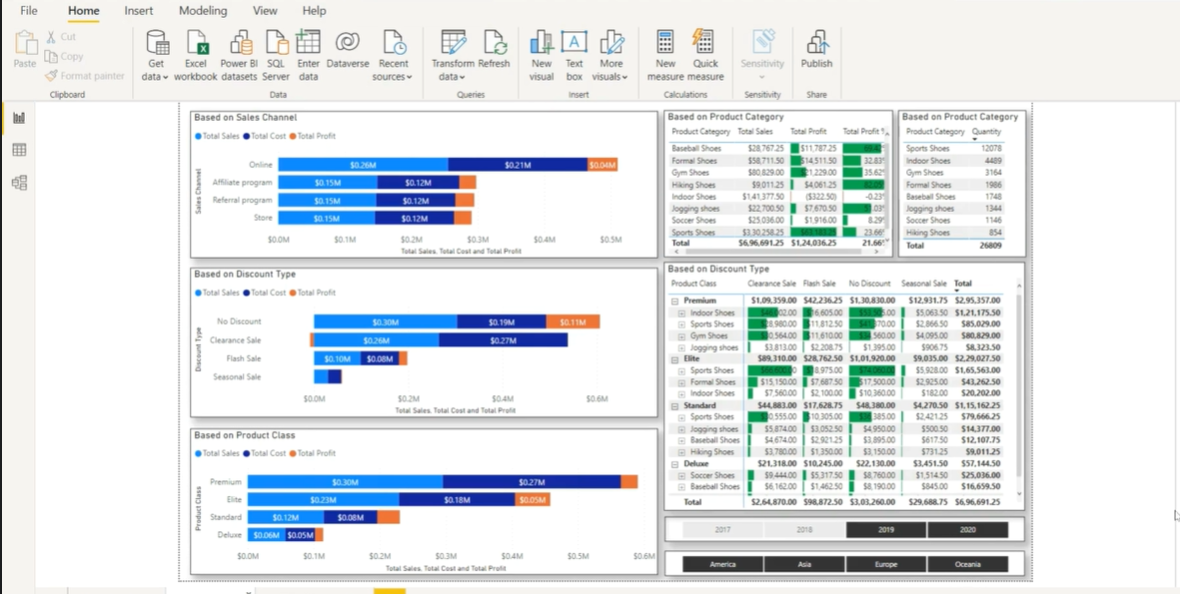

The page's visual inventory and layout, read from the dashboard file:
{"tool":"powerbi","page":{"name":"Page 4","canvas":[1280,720],"ordinal":4},"visuals":[{"type":"hundredPercentStackedBarChart","title":"Based On Sales Channel","fields":{"Category":["Sales Channel Details.Sales Channel"],"Y":["All Measures Table.Total sales","All Measures Table.Total Cost","All Measures Table.Total Profit"]},"box":[10.2,0,644.1,247.5],"z":0},{"type":"hundredPercentStackedBarChart","title":"Based On Customer Type","fields":{"Y":["All Measures Table.Total sales","All Measures Table.Total Cost","All Measures Table.Total Profit"],"Category":["Sales Data.Customer Type"]},"box":[10.2,254.2,644.1,240.7],"z":1000},{"type":"hundredPercentStackedBarChart","title":"Based On Product Class","fields":{"Category":["Sales Data.Product Class"],"Y":["All Measures Table.Total sales","All Measures Table.Total Cost","All Measures Table.Total Profit"]},"box":[10.2,501.7,644.1,215.3],"z":2000},{"type":"pivotTable","title":"Based On Product Category","fields":{"Rows":["Products Details.Products Category"],"Values":["All Measures Table.Total sales","All Measures Table.Total Profit","All Measures Table.Profit%"]},"box":[658.5,0,380.2,233],"z":3000},{"type":"actionButton","box":[0,0,100,40],"z":4000},{"type":"tableEx","title":"Based On Product Category","fields":{"Values":["Products Details.Products Category","Sum(Sales Data.Quantity)"]},"box":[1038.7,0,241.1,233],"z":5000},{"type":"pivotTable","title":"Based On Discount Type","fields":{"Rows":["Sales Data.Product Class","Products Details.Products Category"],"Columns":["Discount Details.Discount Type"],"Values":["All Measures Table.Total sales"]},"box":[658.5,239.5,621.3,409.3],"z":6000},{"type":"slicer","fields":{"Values":["Calendar Table.Date.Variation.Date Hierarchy.Year"]},"box":[658.5,645.6,619.7,43.7],"z":7000},{"type":"slicer","fields":{"Values":["Sales Data.Country"]},"box":[658.5,682.8,608.4,34],"z":8000}]}

Visuals, with their boxes on the page's 1280x720 design canvas (x1, y1, x2, y2). These are canvas units, not pixel positions in the 1180x594 screenshot, which may show the page scaled, cropped or inside an application window:
"Based On Sales Channel" hundredPercentStackedBarChart: bbox(10, 0, 654, 248)
"Based On Customer Type" hundredPercentStackedBarChart: bbox(10, 254, 654, 495)
"Based On Product Class" hundredPercentStackedBarChart: bbox(10, 502, 654, 717)
"Based On Product Category" pivotTable: bbox(658, 0, 1039, 233)
actionButton: bbox(0, 0, 100, 40)
"Based On Product Category" tableEx: bbox(1039, 0, 1280, 233)
"Based On Discount Type" pivotTable: bbox(658, 240, 1280, 649)
slicer - Calendar Table.Date.Variation.Date Hierarchy.Year: bbox(658, 646, 1278, 689)
slicer - Sales Data.Country: bbox(658, 683, 1267, 717)
